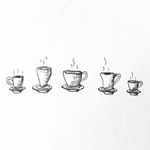cups: (61, 67, 88, 94), (30, 66, 57, 93), (95, 69, 122, 96), (4, 72, 28, 96), (122, 75, 146, 99)
